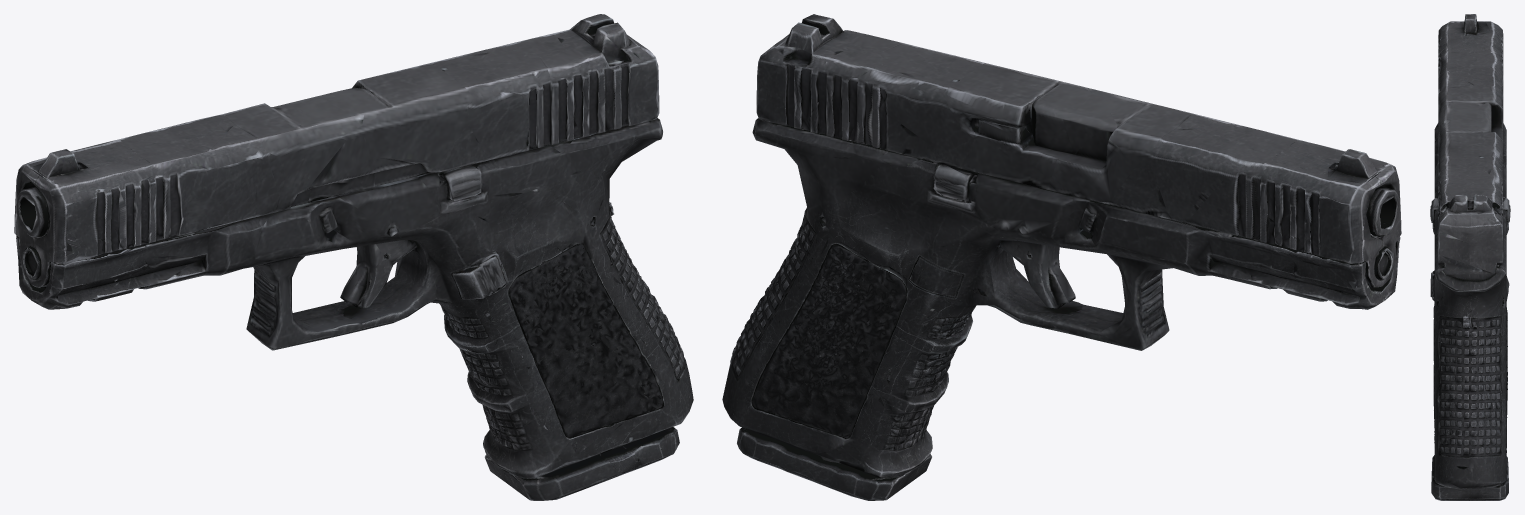
The model's file is glock17.glb.
The picture shows the model from 3 angles, left to right: view 1: azimuth 30°, elevation 25°; view 2: azimuth 150°, elevation 25°; view 3: azimuth 270°, elevation 25°; orthographic projection. The views are drawn at different scales.
Size of the model in its own units: 1.9 by 1.23 by 0.2952.
1 material, 1 textured.
